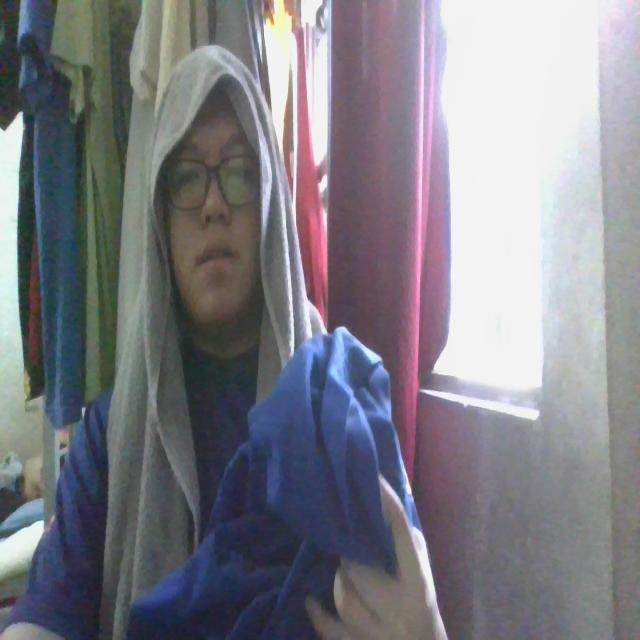person_without_labcoat: (0, 46, 446, 639)
